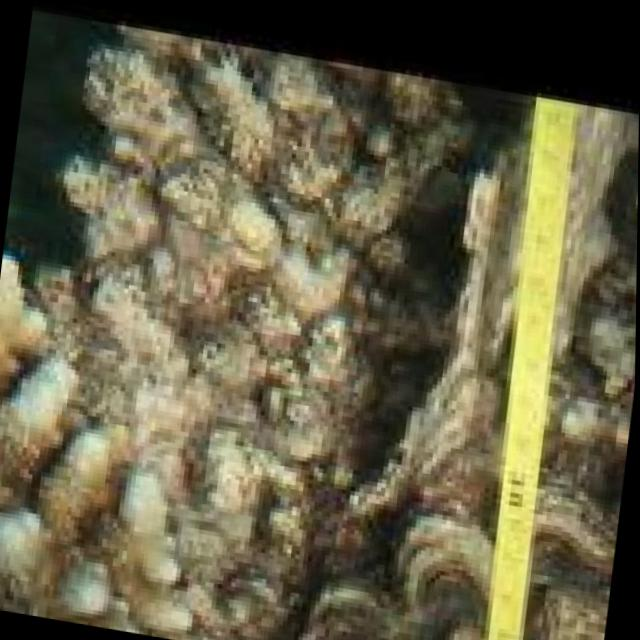Healthy Coral: (0, 274, 246, 640)
